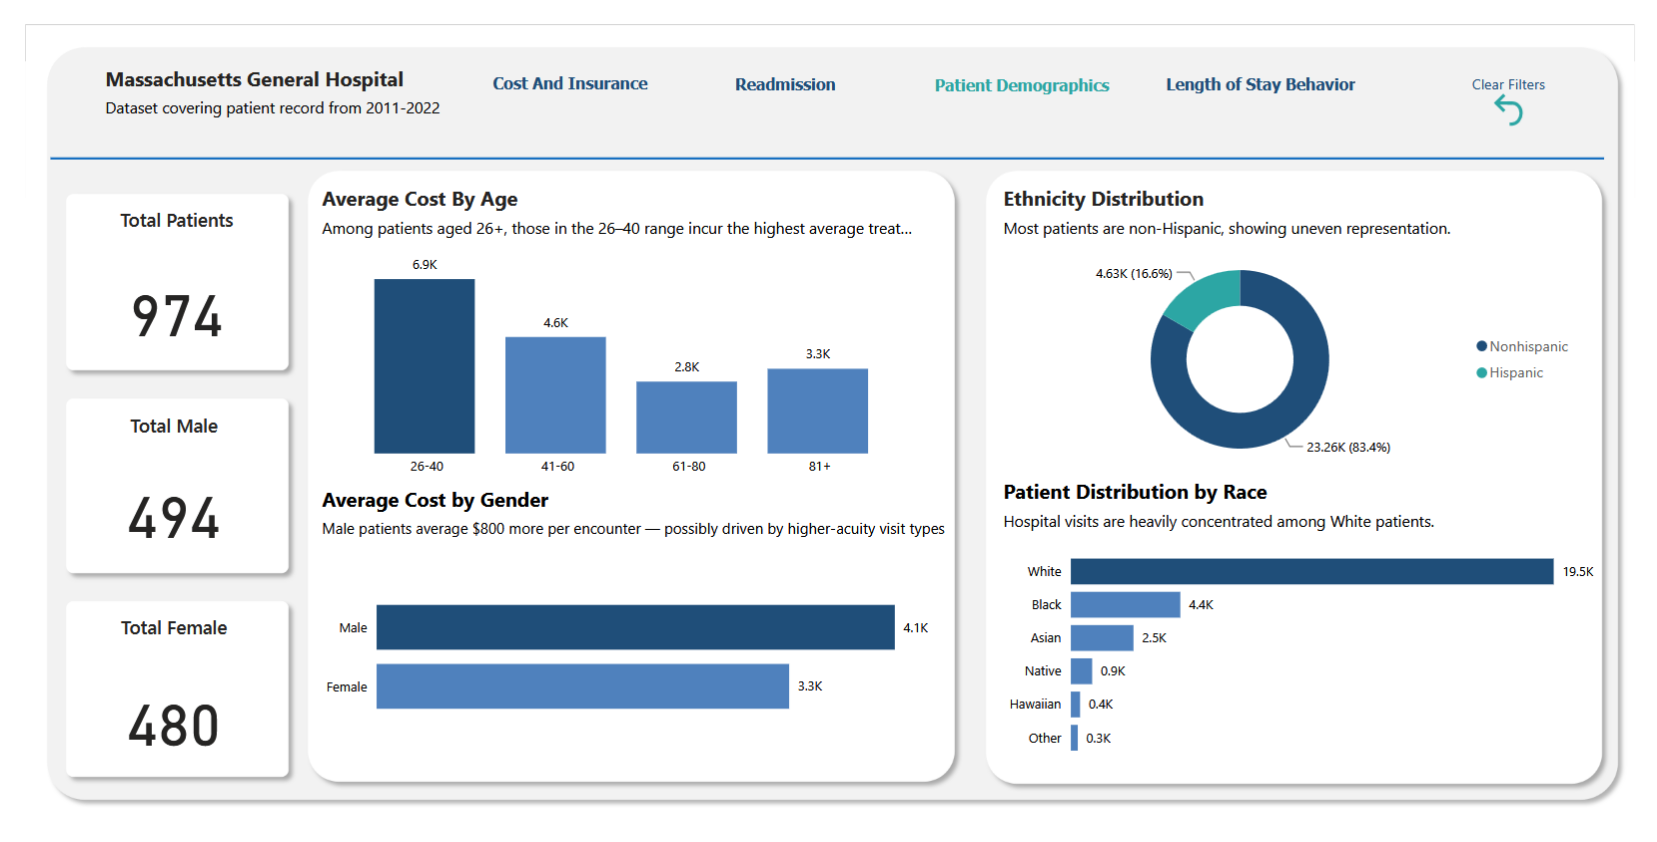

The dashboard page shown, as its layout file describes it:
{"tool":"powerbi","page":{"name":"PATIENT DEMOGRAPHICS","canvas":[1400,740],"ordinal":2},"visuals":[{"type":"shape","box":[0,10,1370,720],"z":0},{"type":"textbox","title":"Massachusetts General Hospital","box":[65.2,32.6,313.7,77.6],"z":1000},{"type":"shape","box":[11.7,113.3,1346.7,8.3],"z":2000},{"type":"actionButton","box":[379.3,26.7,122.7,40.4],"z":3000},{"type":"actionButton","box":[501.6,26.4,150.6,40.4],"z":4000},{"type":"actionButton","box":[653.8,26.4,178.6,40.4],"z":5000},{"type":"actionButton","box":[832.3,26.4,203.4,40.4],"z":6000},{"type":"shape","box":[685,125,635,588.3],"z":7000},{"type":"shape","box":[40,126.7,635,586.7],"z":8000},{"type":"barChart","fields":{"Category":["patients.GENDER"],"Y":["encounters.Avg Cost"]},"box":[70,446.7,576.7,241.7],"z":9000},{"type":"donutChart","fields":{"Category":["patients.ETHNICITY"],"Y":["CountNonNull(encounters.PATIENT ID)"]},"box":[714.3,198.8,585.4,222.1],"z":10000},{"type":"columnChart","fields":{"Category":["patients.AGE GROUP"],"Y":["encounters.Avg Cost"]},"box":[65,198.3,576.7,226.7],"z":11000},{"type":"textbox","title":"Average Cost by Age Group","box":[70.5,148.7,604.2,70.5],"z":12000},{"type":"textbox","box":[70.5,424.8,604.2,72.1],"z":13000},{"type":"textbox","box":[715,148.3,536.7,71.7],"z":14000},{"type":"shape","box":[1040.1,24.2,274.6,84],"z":15000},{"type":"barChart","title":"Patient Distribution by Race","fields":{"Category":["patients.RACE"],"Y":["CountNonNull(encounters.ENCOUNTER ID)"]},"box":[714.3,425.5,512.4,271.8],"z":16000},{"type":"slicer","title":"GENDER","fields":{"Values":["patients.GENDER"]},"box":[1040.1,29.1,151.8,77.5],"z":17000},{"type":"slicer","title":"AGE GROUP","fields":{"Values":["patients.AGE GROUP"]},"box":[1190.3,27.5,122.7,75.9],"z":18000}]}

Visuals, with their boxes on the page's 1400x740 design canvas (x1, y1, x2, y2). These are canvas units, not pixel positions in the 1657x842 screenshot, which may show the page scaled, cropped or inside an application window:
shape: rect(0, 10, 1370, 730)
"Massachusetts General Hospital" textbox: rect(65, 33, 379, 110)
shape: rect(12, 113, 1358, 122)
actionButton: rect(379, 27, 502, 67)
actionButton: rect(502, 26, 652, 67)
actionButton: rect(654, 26, 832, 67)
actionButton: rect(832, 26, 1036, 67)
shape: rect(685, 125, 1320, 713)
shape: rect(40, 127, 675, 713)
barChart - patients.GENDER x encounters.Avg Cost: rect(70, 447, 647, 688)
donutChart - patients.ETHNICITY x CountNonNull(encounters.PATIENT ID): rect(714, 199, 1300, 421)
columnChart - patients.AGE GROUP x encounters.Avg Cost: rect(65, 198, 642, 425)
"Average Cost by Age Group" textbox: rect(70, 149, 675, 219)
textbox: rect(70, 425, 675, 497)
textbox: rect(715, 148, 1252, 220)
shape: rect(1040, 24, 1315, 108)
"Patient Distribution by Race" barChart: rect(714, 426, 1227, 697)
"GENDER" slicer: rect(1040, 29, 1192, 107)
"AGE GROUP" slicer: rect(1190, 28, 1313, 103)
